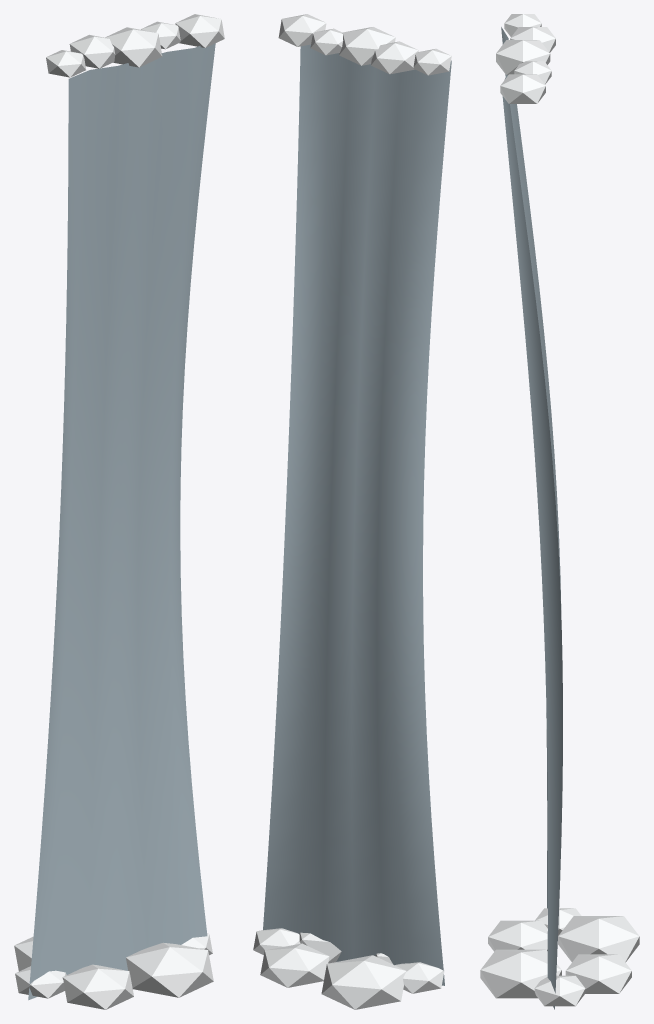
File: waterfall.glb
3 renders of one model, left to right at view 1: azimuth 30°, elevation 25°; view 2: azimuth 150°, elevation 25°; view 3: azimuth 270°, elevation 25°, orthographic. The views are drawn at different scales.
Visible parts, largest first — view 1: Falls, FoamBase, FoamTop; view 2: Falls, FoamBase, FoamTop; view 3: Falls, FoamBase, FoamTop.
Part boxes in pixels (x1,y1,x2,y2): Falls: [28, 43, 215, 1000]; FoamBase: [14, 933, 213, 1009]; FoamTop: [46, 14, 224, 77]; Falls: [263, 44, 451, 985]; FoamBase: [253, 928, 444, 1009]; FoamTop: [278, 14, 451, 75]; Falls: [501, 27, 562, 1009]; FoamBase: [480, 908, 639, 1006]; FoamTop: [496, 14, 555, 103].
Bounding box in the file's own units: 2.14 × 10.38 × 1.6.
